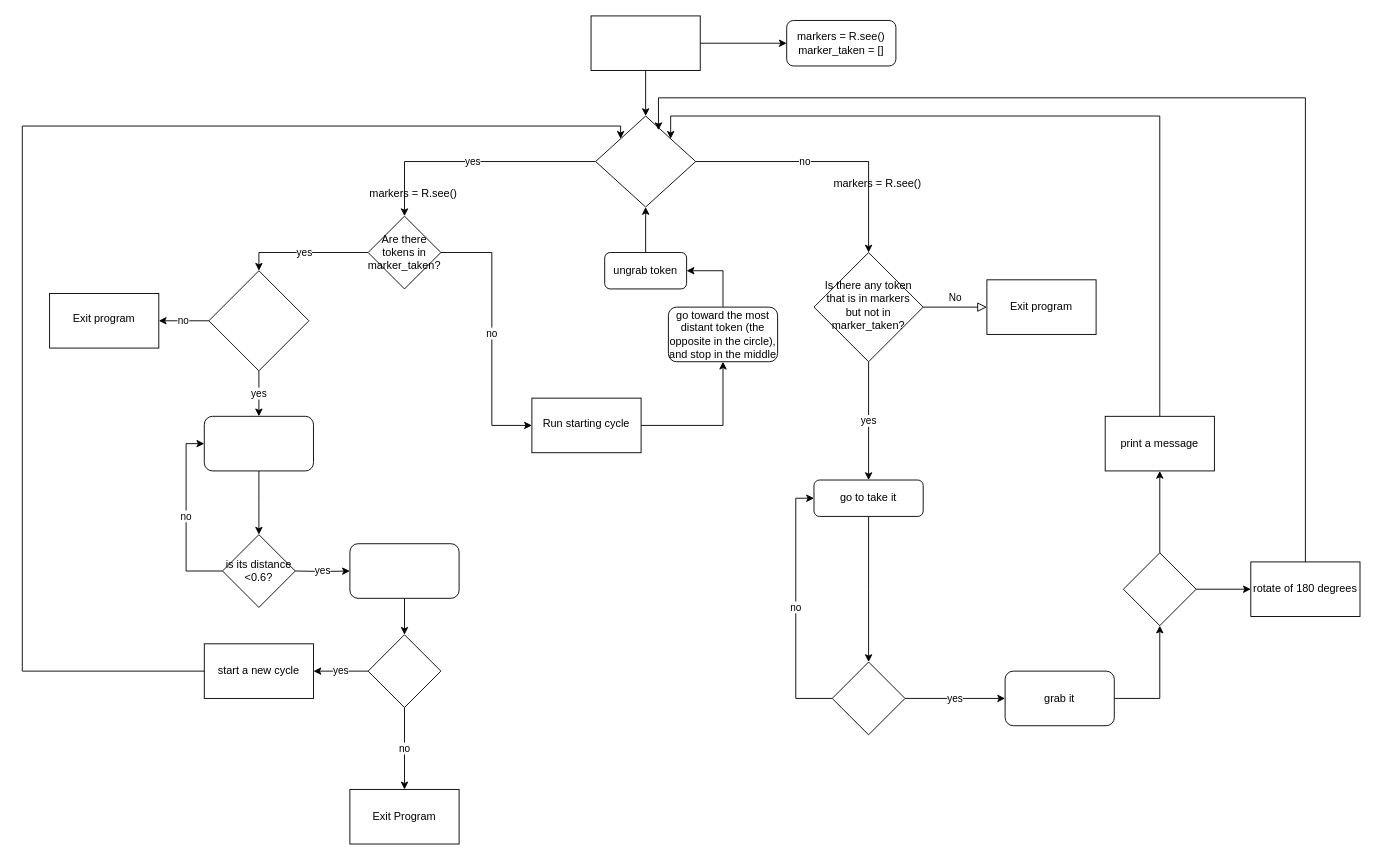
The diagram is 1376 pixels wide and 860 high, and some of its shapes have lost their labels. The shapes that lost their labels are listed below. From the top down, each one's centre as x and y in pixels, then its label:
the point at 645,43: ROBOT INITIALIZES
the point at 645,161: Is the robot grabbing a token?
the point at 258,320: Is there any token that is in markers and marker_taken?
the point at 258,443: Go on the nearest
the point at 404,570: Ungrab it and add item to marker_taken
the point at 1159,589: is it the first taken grabbed?
the point at 404,671: are there any other tokens to take?
the point at 868,698: is its distance <0.4?
